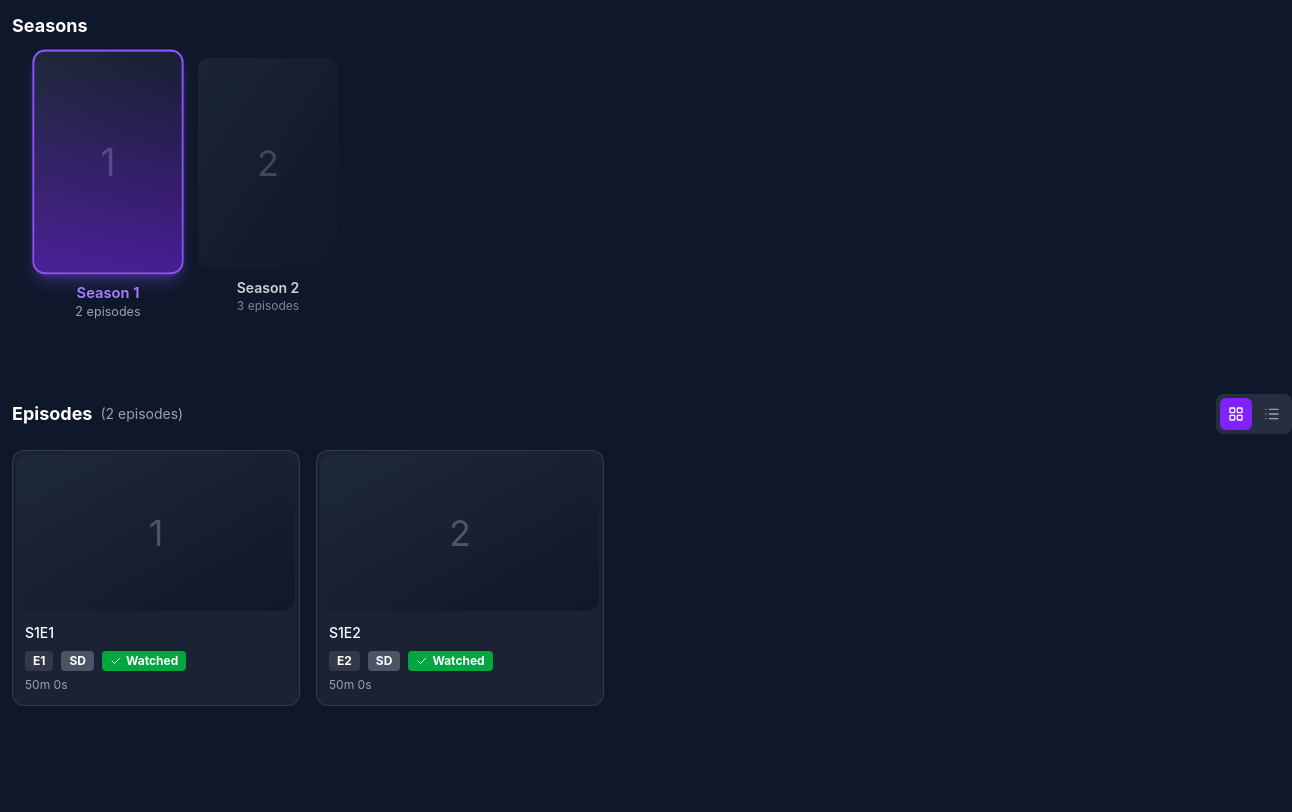
Test: season click scrolls to the episodes › brings the episode section to the top of the page on a season click
The width and height of the screenshot is (1292, 812).
Expected: the button with aria-label "Episode 1: S1E1" is shown, [12,450,300,706]
Click the button "2 Season 2 3 episodes".
click(268, 185)  # box [196,56,340,314]
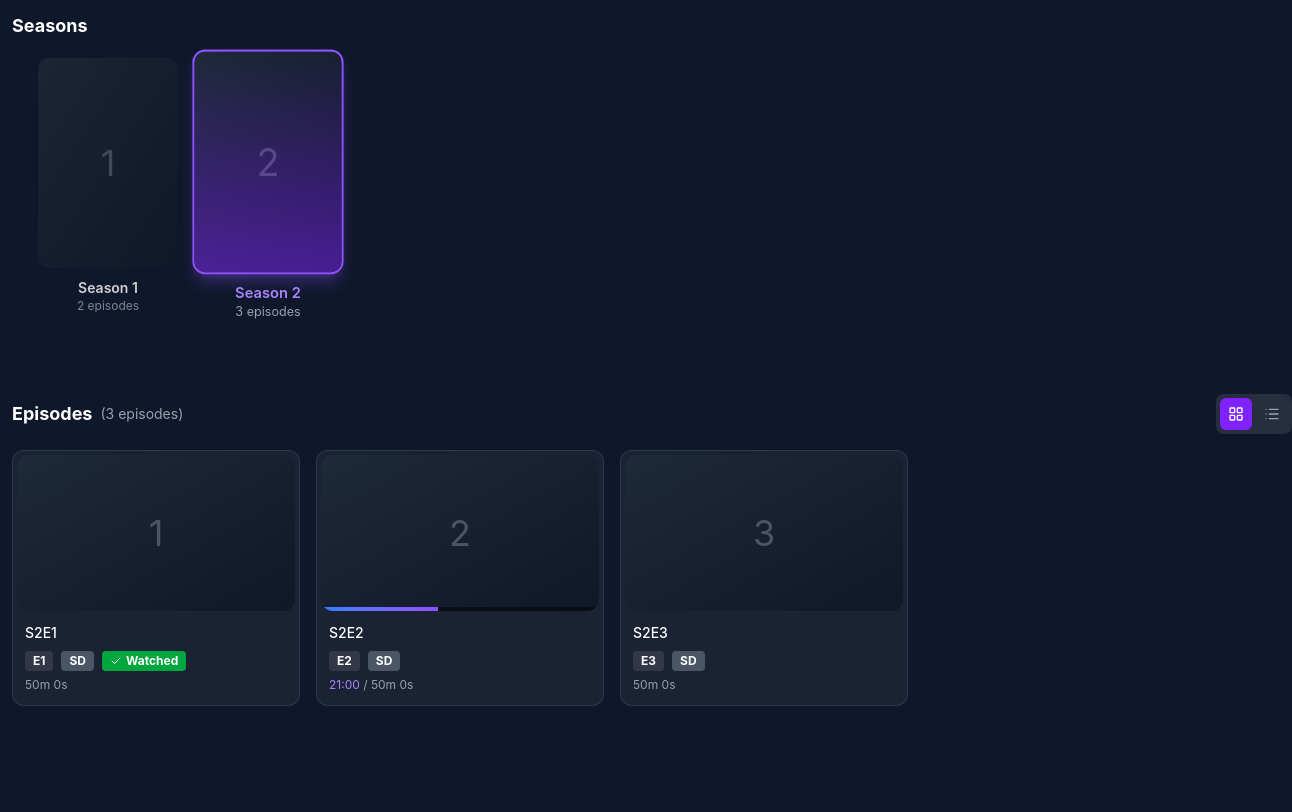
Now the button with aria-label "Episode 3: S2E3" is shown, box [620,450,908,706]
